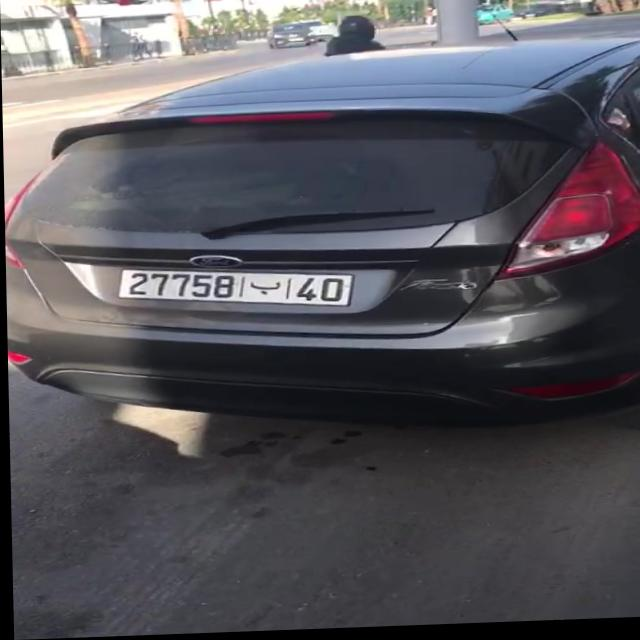License-Plate: (120, 270, 350, 308)
